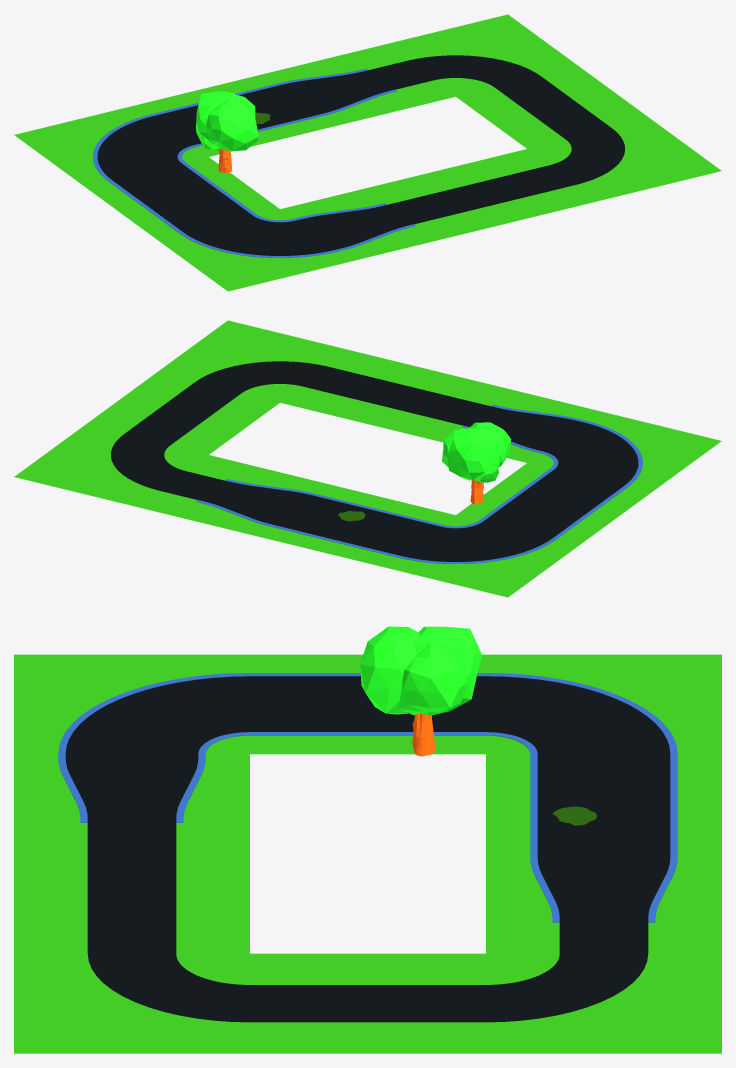
File: track_01.glb
3 renders of one model, top to bottom at view 1: azimuth 30°, elevation 25°; view 2: azimuth 150°, elevation 25°; view 3: azimuth 270°, elevation 25°, orthographic. The views are drawn at different scales.
Parts seen in each view (by area): view 1: mod1_2_grass.001, mod1_1_grass.001, mod0_grass.002, mod0_grass.003, mod10_road.001, mod12_grass.002, mod12_grass.003, mod11_grass.002, mod11_grass.003, mod12_road.003, mod12_road.002, mod11_road.003 (+15 smaller); view 2: mod1_1_grass.001, mod1_2_grass.001, mod0_grass.002, mod0_grass.003, mod10_road.001, mod10_road.003, mod12_grass.003, mod11_grass.003, mod11_grass.002, mod12_road.003, mod11_road.002, mod11_road.003 (+14 smaller); view 3: mod1_1_grass.001, mod1_2_grass.001, mod0_grass.003, mod0_grass.002, mod10_road.003, mod12_grass.003, mod12_grass.002, mod11_grass.003, mod11_grass.002, mod11_road.003, mod11_road.002, mod12_road.002 (+16 smaller).
Part boxes in pixels (x1=…): mod1_2_grass.001: x1=385, y1=14, x2=578, y2=96; mod1_1_grass.001: x1=527, y1=119, x2=721, y2=200; mod0_grass.002: x1=404, y1=149, x2=597, y2=231; mod0_grass.003: x1=456, y1=66, x2=650, y2=148; mod10_road.001: x1=113, y1=163, x2=252, y2=232; mod12_grass.002: x1=280, y1=179, x2=474, y2=261; mod12_grass.003: x1=261, y1=44, x2=455, y2=126; mod11_grass.002: x1=157, y1=209, x2=350, y2=291; mod11_grass.003: x1=14, y1=105, x2=208, y2=186; mod12_road.003: x1=277, y1=61, x2=433, y2=115; mod12_road.002: x1=296, y1=195, x2=451, y2=249; mod11_road.003: x1=97, y1=116, x2=192, y2=180; mod1_1_grass.001: x1=157, y1=320, x2=350, y2=402; mod1_2_grass.001: x1=14, y1=425, x2=208, y2=506; mod0_grass.002: x1=280, y1=350, x2=474, y2=432; mod0_grass.003: x1=85, y1=372, x2=279, y2=454; mod10_road.001: x1=483, y1=469, x2=622, y2=538; mod10_road.003: x1=277, y1=496, x2=439, y2=555; mod12_grass.003: x1=138, y1=455, x2=331, y2=537; mod11_grass.003: x1=385, y1=515, x2=578, y2=597; mod11_grass.002: x1=527, y1=411, x2=721, y2=492; mod12_road.003: x1=160, y1=471, x2=316, y2=525; mod11_road.002: x1=543, y1=422, x2=638, y2=486; mod11_road.003: x1=400, y1=522, x2=551, y2=561; mod1_1_grass.001: x1=14, y1=953, x2=249, y2=1053; mod1_2_grass.001: x1=486, y1=953, x2=721, y2=1053; mod0_grass.003: x1=250, y1=953, x2=485, y2=1053; mod0_grass.002: x1=14, y1=854, x2=249, y2=953; mod10_road.003: x1=537, y1=754, x2=670, y2=853; mod12_grass.003: x1=486, y1=854, x2=721, y2=953; mod12_grass.002: x1=14, y1=754, x2=249, y2=853; mod11_grass.003: x1=486, y1=654, x2=721, y2=754; mod11_grass.002: x1=14, y1=654, x2=249, y2=754; mod11_road.003: x1=486, y1=676, x2=670, y2=754; mod11_road.002: x1=65, y1=676, x2=249, y2=754; mod12_road.002: x1=65, y1=754, x2=198, y2=853.
Bounding box in the file's own units: 64 × 9.25 × 48.
